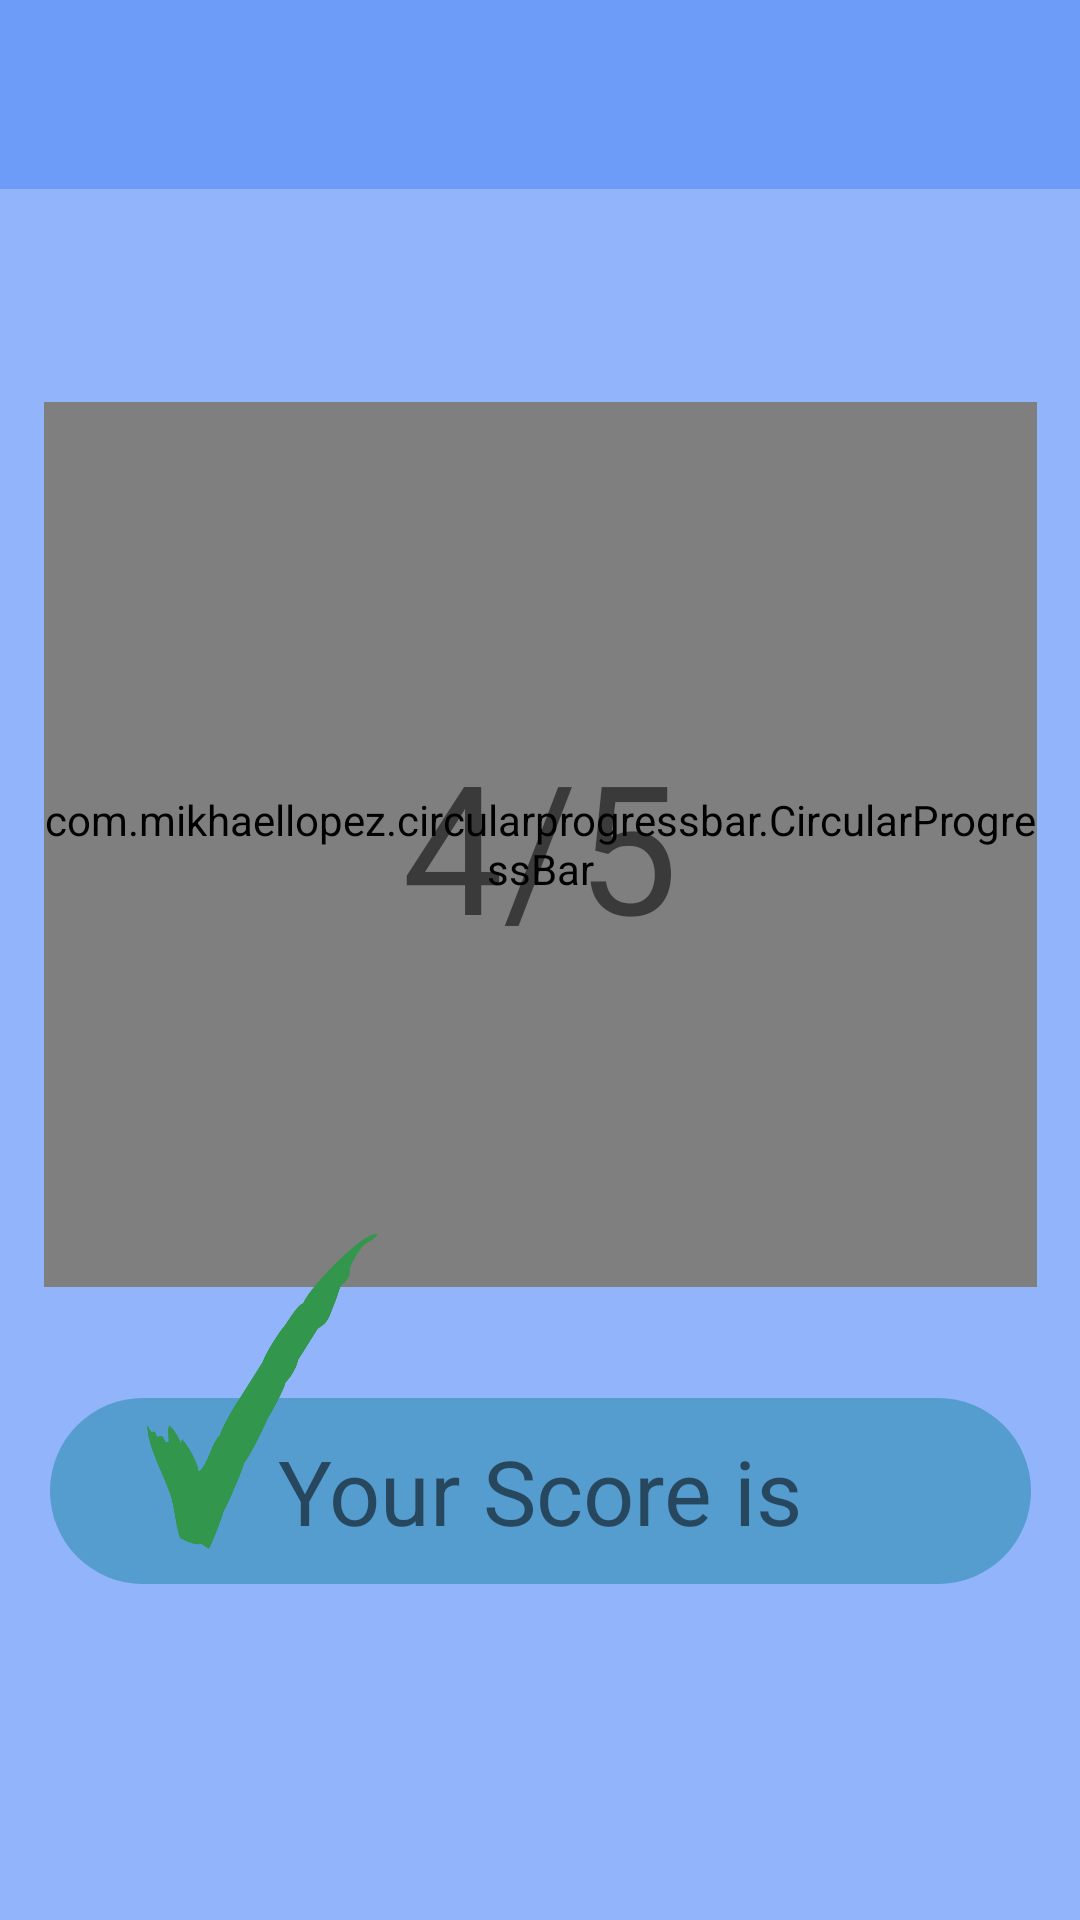

Icon click points for this 1080*1920 phone screenshot, format (x=x, y=y):
tick: (x=262, y=1391)
